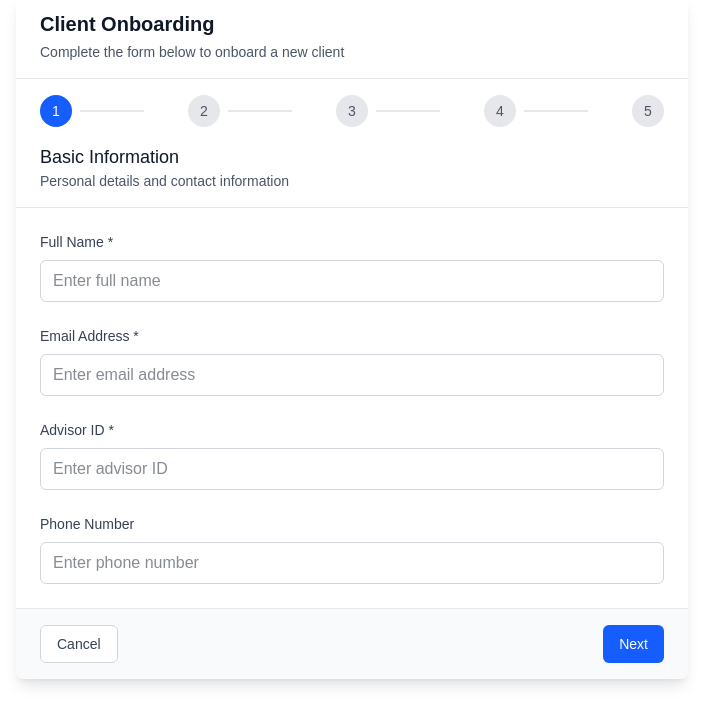
Phase 3 Advanced Features › ClientOnboarding Component › allows navigation through steps
// Fill required fields
Type "John Doe" into the field labelled "Full Name *" at (352, 281), box [40,260,664,302]
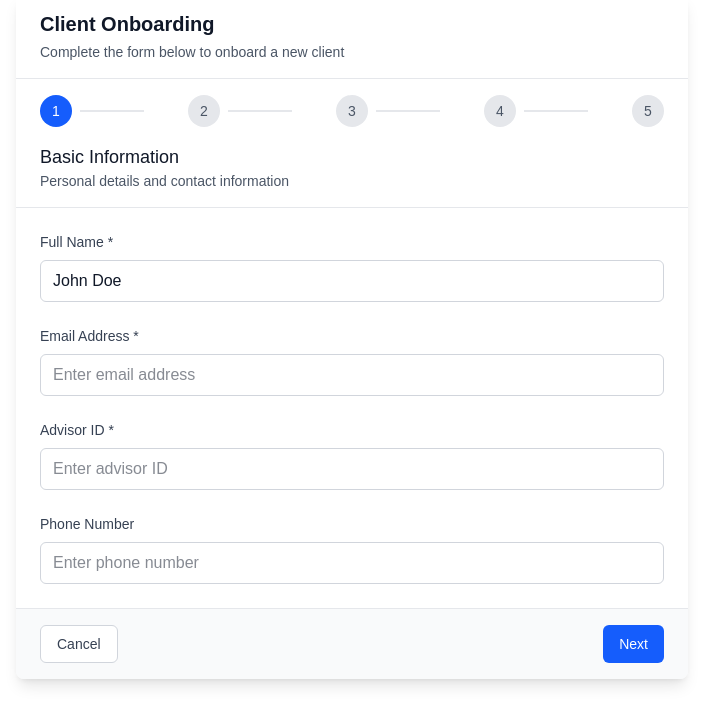
Type "john@example.com" into the field labelled "Email Address *" at (352, 375), box [40,354,664,396]
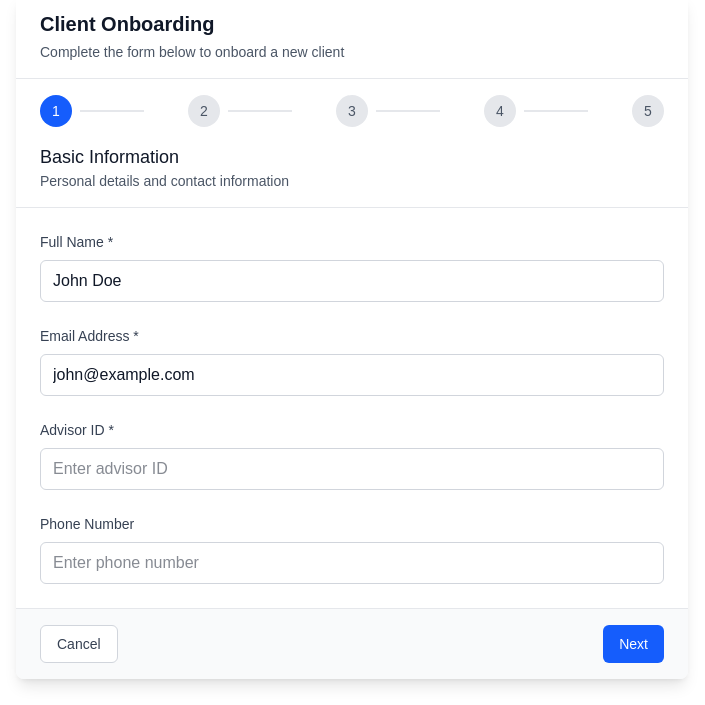
Type "A123" into the field labelled "Advisor ID *" at (352, 469), box [40,448,664,490]
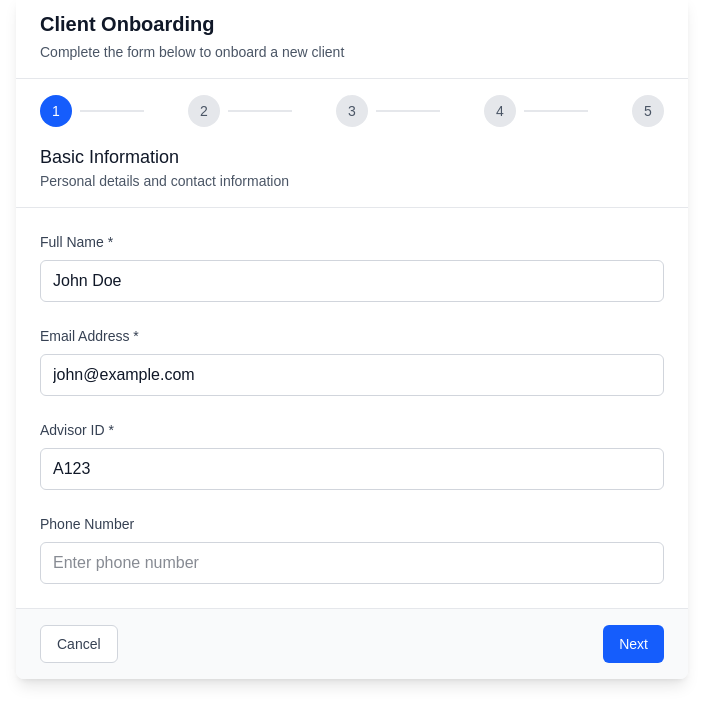
// Proceed to next step
Click the button "Next" at (634, 644), box [603,625,664,663]
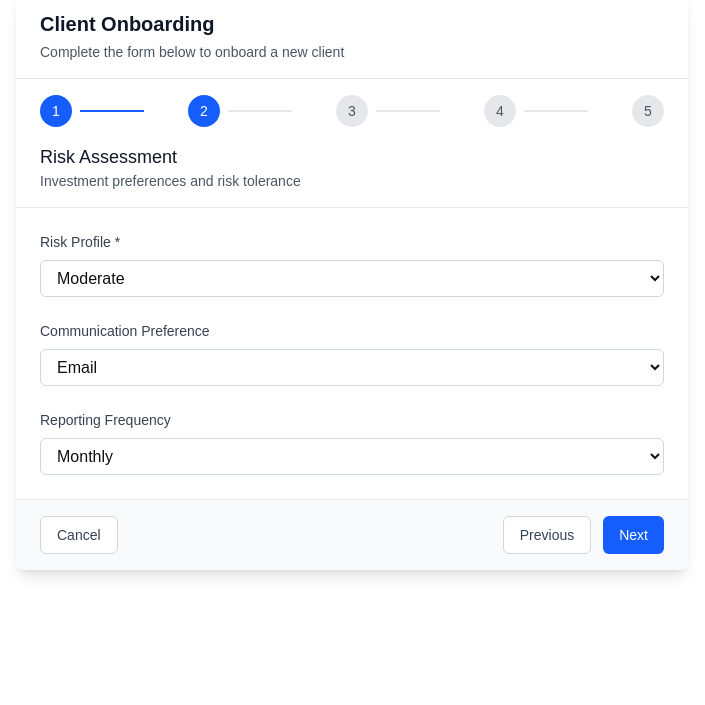
Expected: the heading "Risk Assessment" is shown, [40,147,177,167]
Expected: the dropdown labelled "Risk Profile *" is shown, [40,260,664,297]
